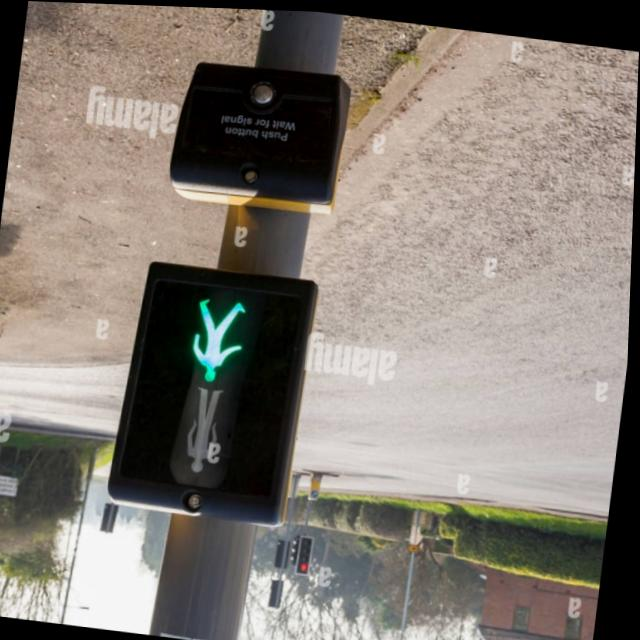green_light: (176, 287, 255, 389)
